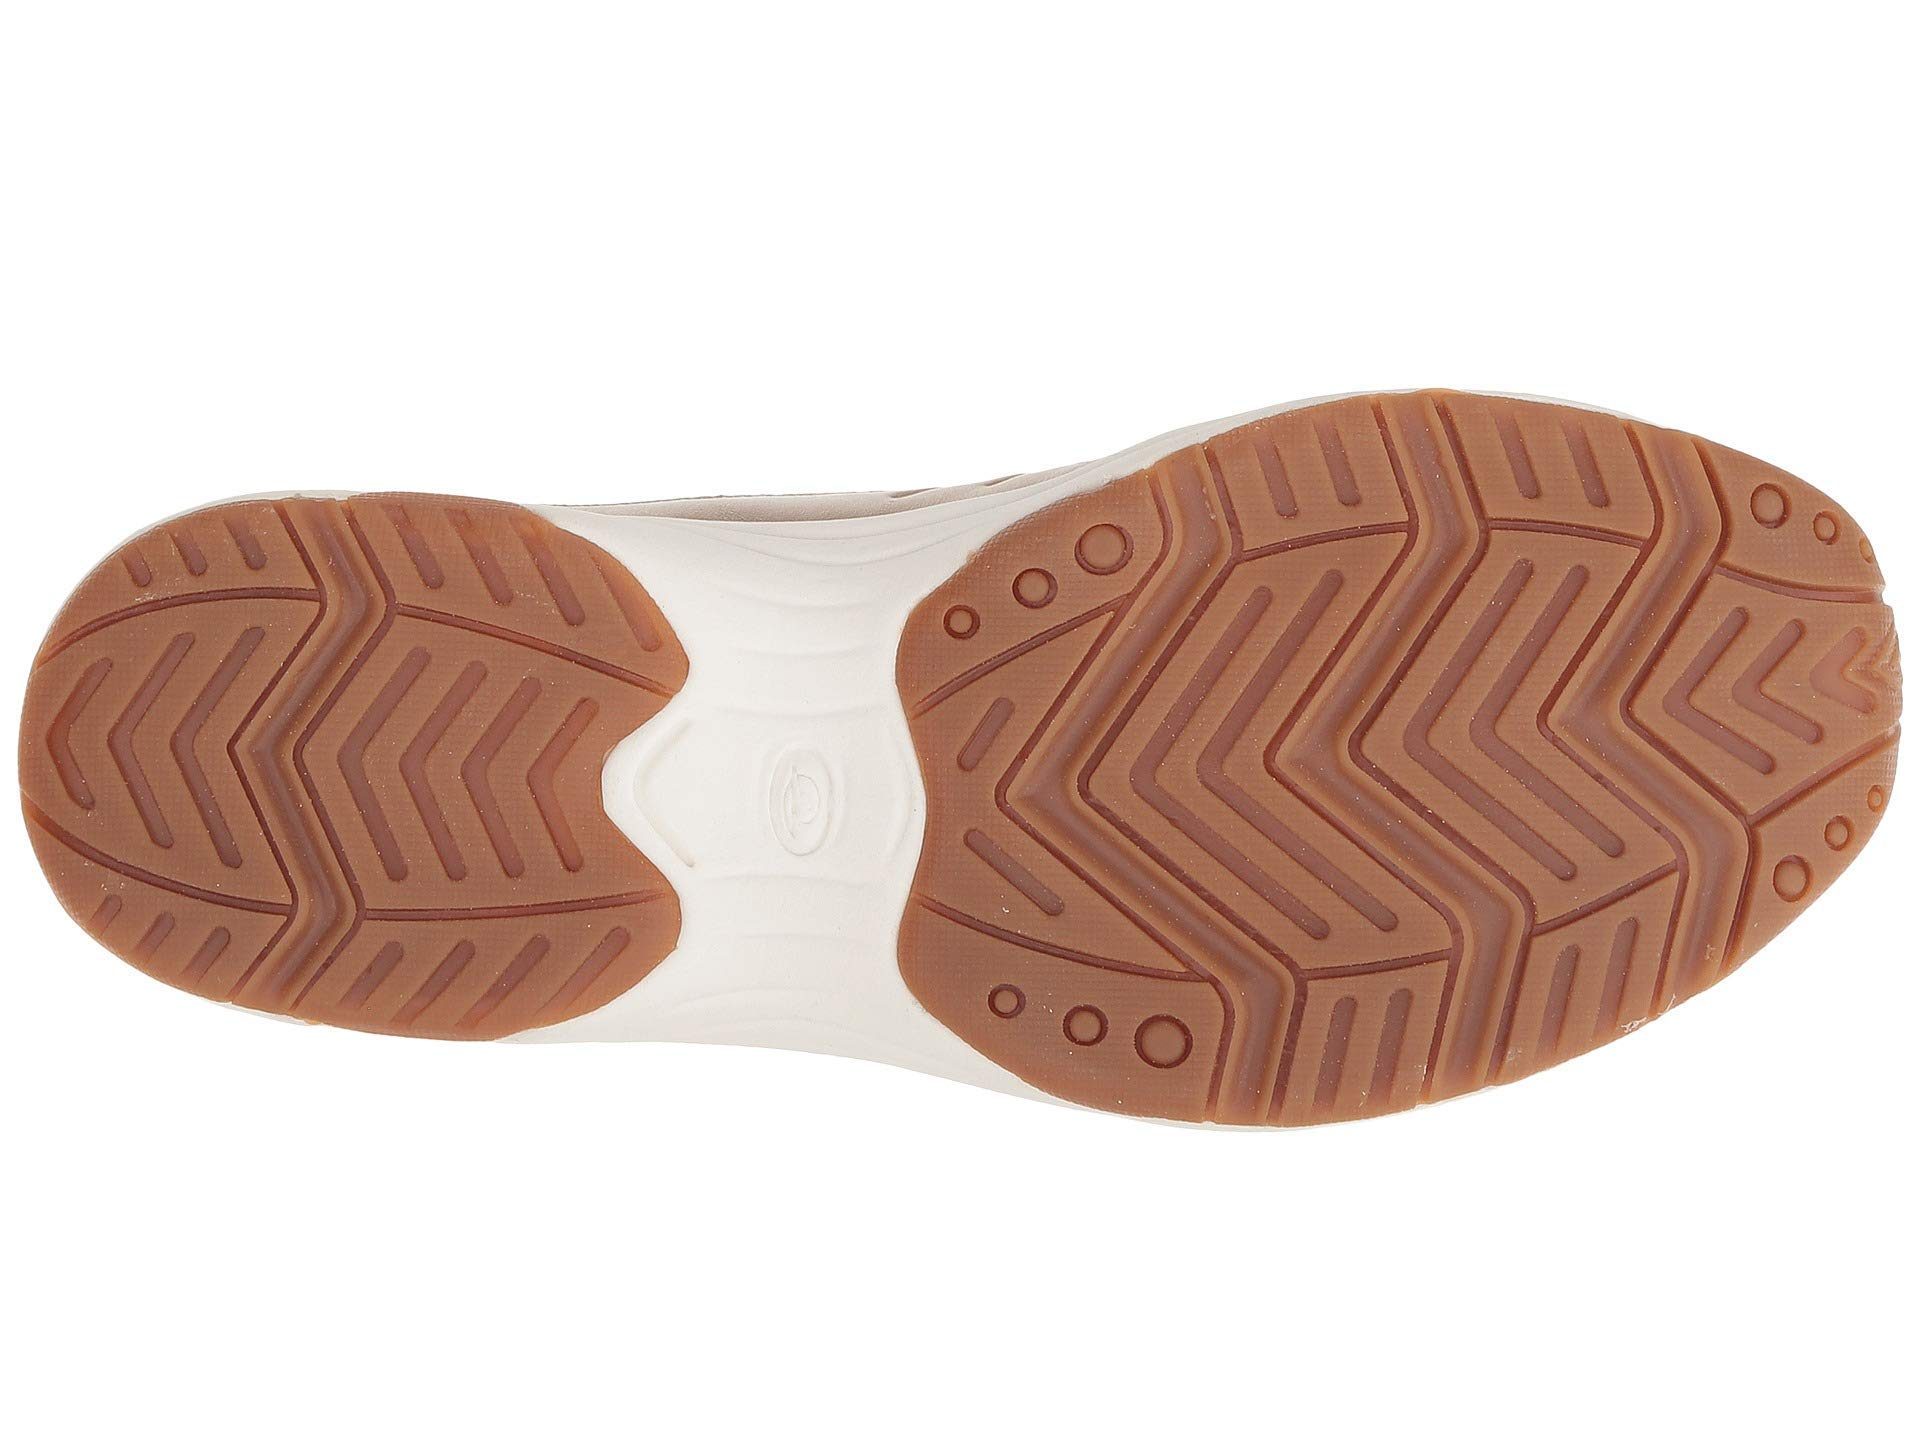chevron: (1054, 647, 1342, 941), (1154, 386, 1426, 641), (113, 663, 373, 920)
circle: (955, 959, 1212, 1193), (1690, 425, 1903, 629), (939, 489, 1137, 691), (1752, 765, 1881, 932)
line: (1386, 324, 1674, 569), (1154, 386, 1426, 641), (1268, 945, 1504, 1184)
quad: (1386, 324, 1674, 569), (1154, 386, 1426, 641), (1268, 945, 1504, 1184)
